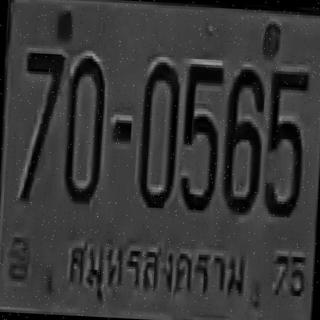N00: (62, 52, 106, 202), (136, 59, 180, 206)
N05: (262, 67, 309, 217), (178, 61, 222, 211)
N06: (221, 66, 265, 213)
N07: (19, 50, 64, 203), (20, 50, 64, 169)
P59: (62, 224, 251, 316)
